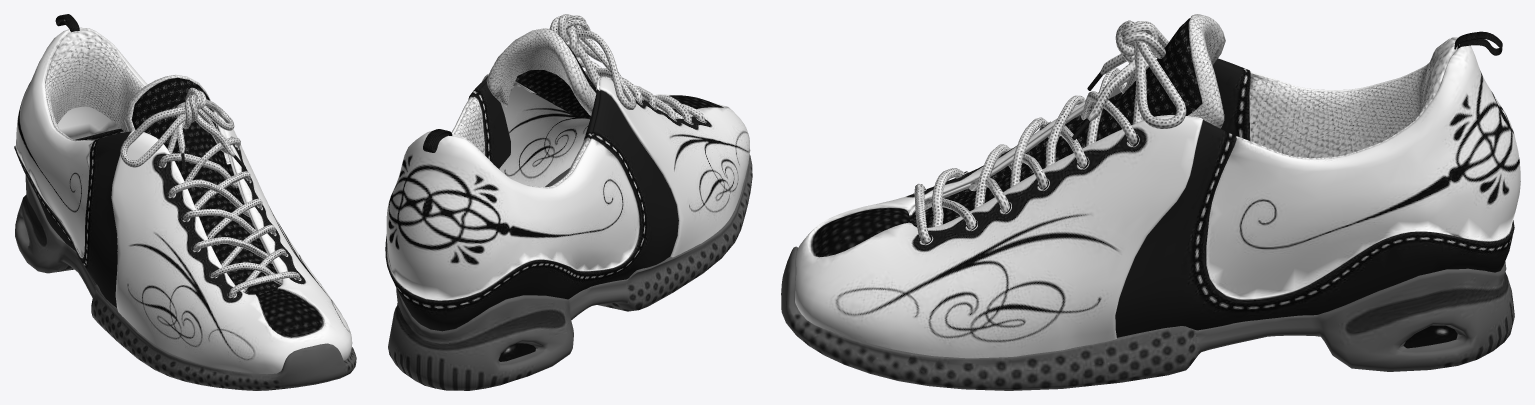
File: sneaker-medium.FBX
3 views of the same model, side by side, from view 1: azimuth 30°, elevation 25°; view 2: azimuth 150°, elevation 25°; view 3: azimuth 270°, elevation 25° (orthographic). The views are drawn at different scales.
Visible parts, largest first — view 1: sneaker_medium; view 2: sneaker_medium; view 3: sneaker_medium.
Part boxes in pixels (bbox=[...]): sneaker_medium: bbox=[14, 14, 356, 390]; sneaker_medium: bbox=[385, 14, 752, 390]; sneaker_medium: bbox=[781, 14, 1520, 390].
Bounding box in the file's own units: 9.2 × 12.33 × 25.2.
